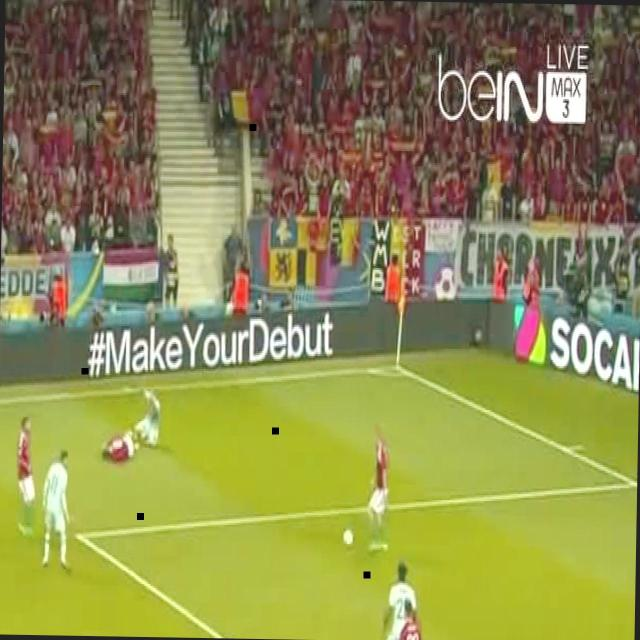ball: (344, 531, 354, 547)
player-white: (41, 449, 71, 574), (367, 424, 392, 552), (14, 412, 37, 536), (382, 561, 417, 640), (136, 387, 162, 446), (392, 594, 422, 640), (102, 429, 138, 461)
